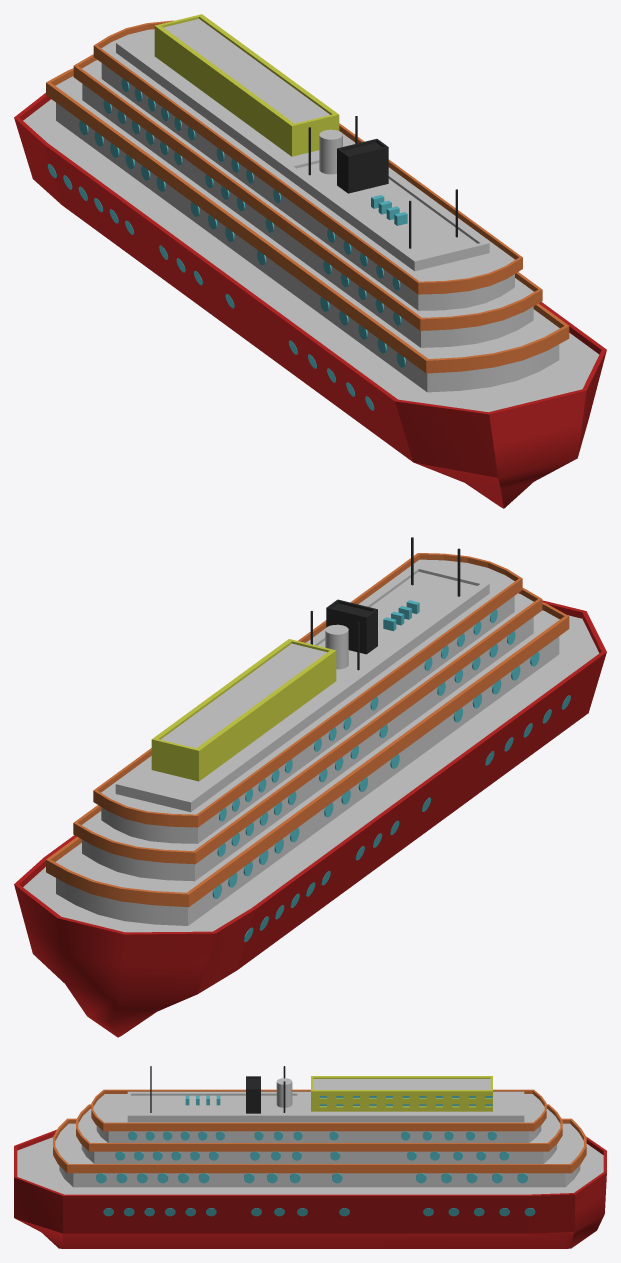
The model's file is poly-expedition-cruiseship.glb.
3 views of the same model, one above another, from view 1: azimuth 30°, elevation 25°; view 2: azimuth 150°, elevation 25°; view 3: azimuth 270°, elevation 25° (orthographic). The views are drawn at different scales.
Parts seen in each view (by area): view 1: Box20195, Box20204, Box20200, Box20196, Box20194, Box20193; view 2: Box20195, Box20204, Box20200, Box20196, Box20194, Box20193; view 3: Box20195, Box20204, Box20200, Box20194, Box20196, Box20193.
Part boxes in pixels (x1,y1,x2,y2): Box20195: [23, 19, 599, 412]; Box20204: [14, 93, 606, 508]; Box20200: [46, 20, 569, 373]; Box20196: [154, 14, 339, 156]; Box20194: [47, 78, 407, 410]; Box20193: [308, 116, 457, 248]; Box20195: [23, 559, 599, 932]; Box20204: [14, 600, 606, 1037]; Box20200: [46, 553, 569, 907]; Box20196: [151, 639, 336, 781]; Box20194: [212, 600, 570, 941]; Box20193: [310, 537, 460, 670]; Box20195: [17, 1078, 603, 1194]; Box20204: [14, 1129, 606, 1248]; Box20200: [53, 1089, 586, 1173]; Box20194: [96, 1095, 535, 1216]; Box20196: [311, 1076, 492, 1111]; Box20193: [150, 1066, 285, 1113].
Bounding box in the file's own units: 367 × 435 × 1340.
